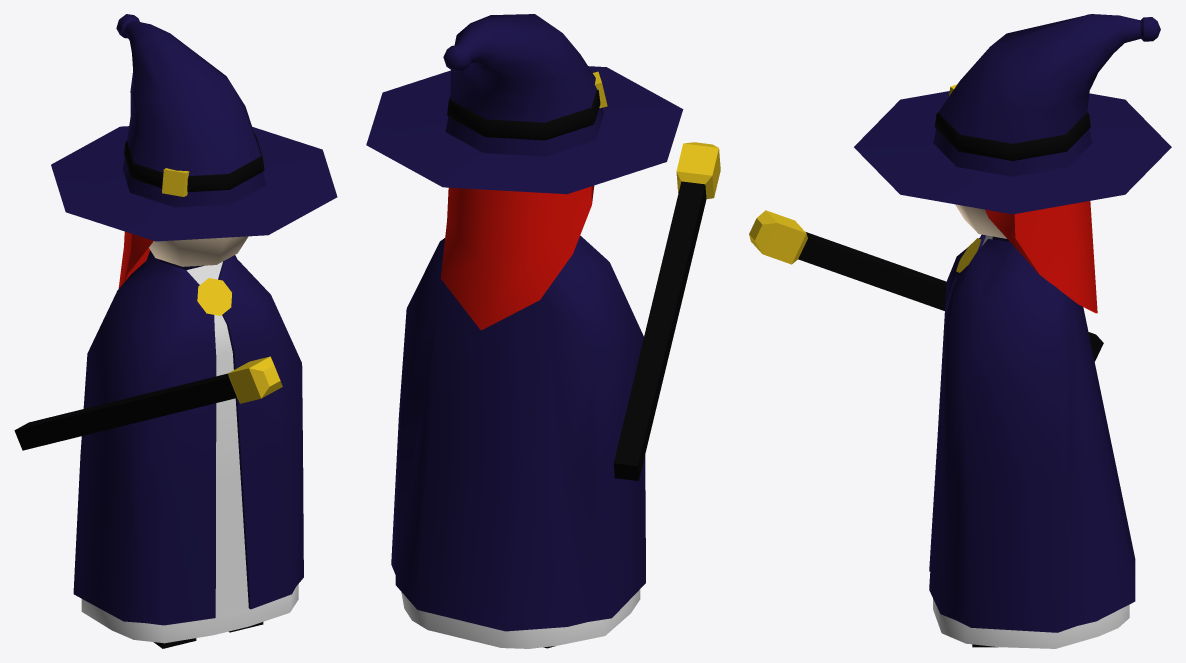
File: lowpolywitch.fbx
3 views of the same model, side by side, from view 1: azimuth 30°, elevation 25°; view 2: azimuth 150°, elevation 25°; view 3: azimuth 270°, elevation 25° (orthographic). The views are drawn at different scales.
Parts seen in each view (by area): view 1: Circle; view 2: Circle; view 3: Circle.
Part boxes in pixels (<box>): Circle: <box>14,14,337,648</box>; Circle: <box>366,14,720,648</box>; Circle: <box>749,14,1171,648</box>.
Bounding box in the file's own units: 161 × 322 × 204.
